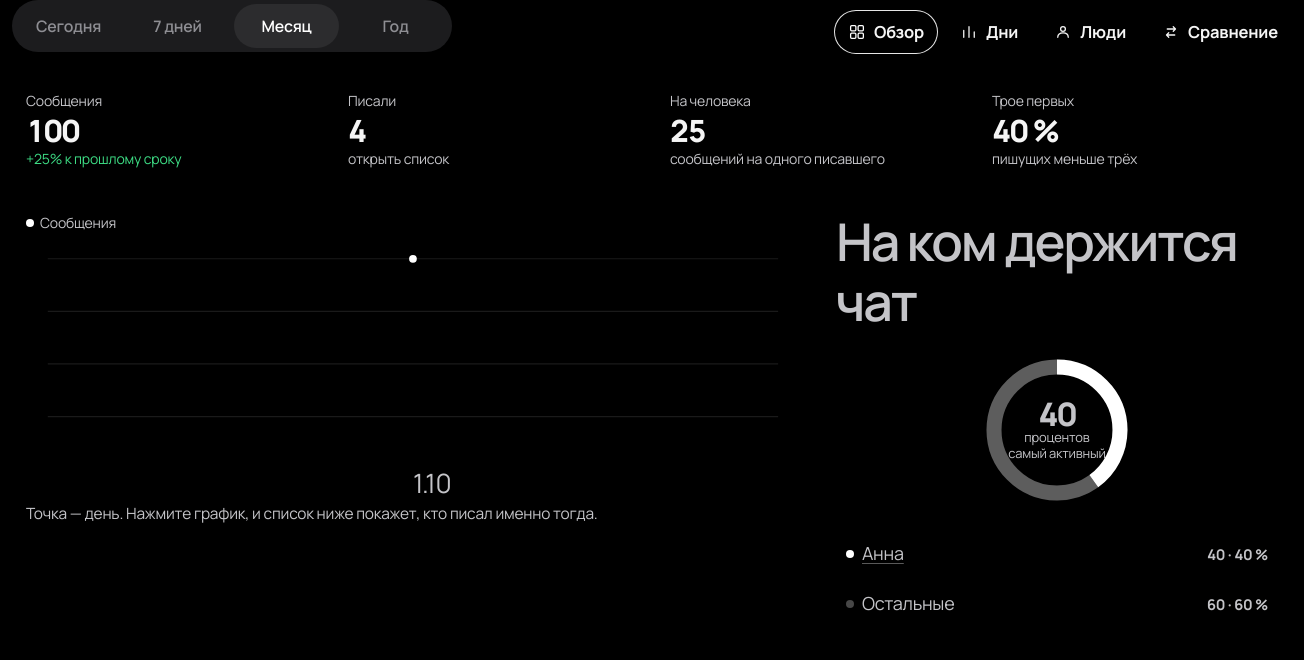
Scenario: ActivityBoard › compares the period and opens one day
Expected: the text "+25% к прошлому сроку" is shown, x1=26 y1=150 x2=182 y2=169
Expected: the tab "Обзор" is shown, x1=834 y1=10 x2=938 y2=54
Click the tab "Сравнение": (1220, 32) x1=1148 y1=10 x2=1292 y2=54
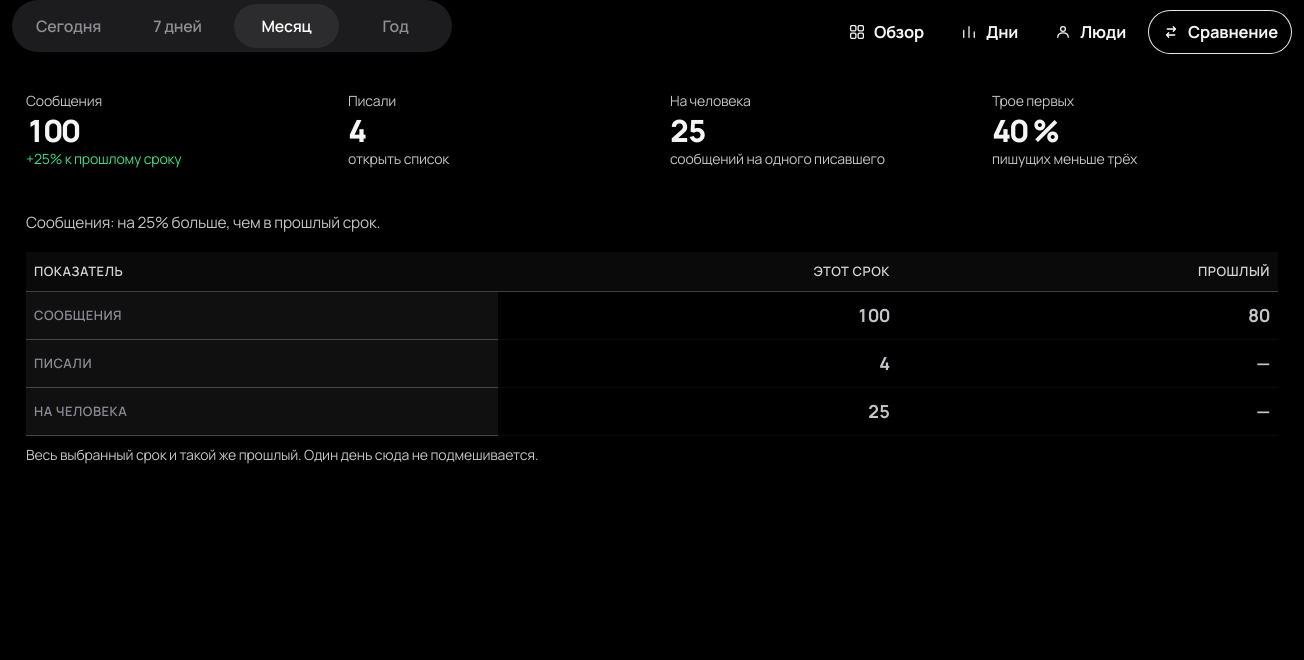
Expected: the text "Сообщения: на 25% больше, чем в прошлый срок." is shown, x1=26 y1=211 x2=380 y2=233
Click the tab "Дни": (989, 32) x1=946 y1=10 x2=1032 y2=54
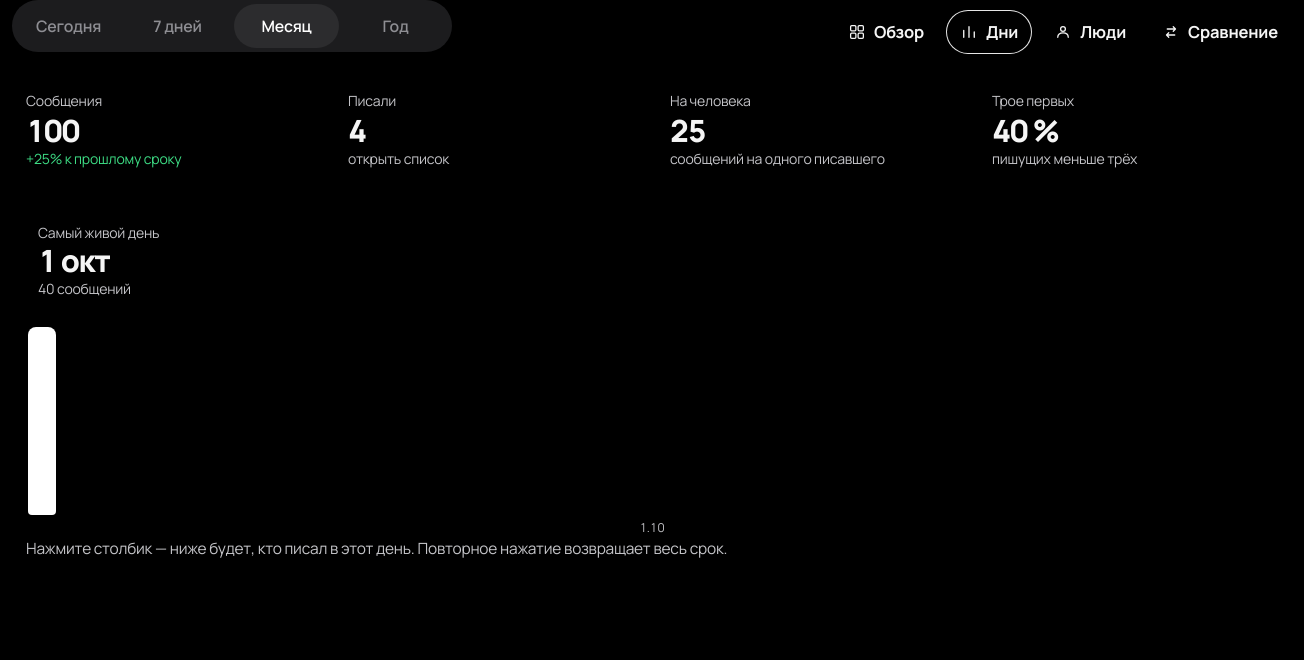
Click the button named "1 окт: 40 сообщений": (42, 421) x1=28 y1=327 x2=56 y2=515
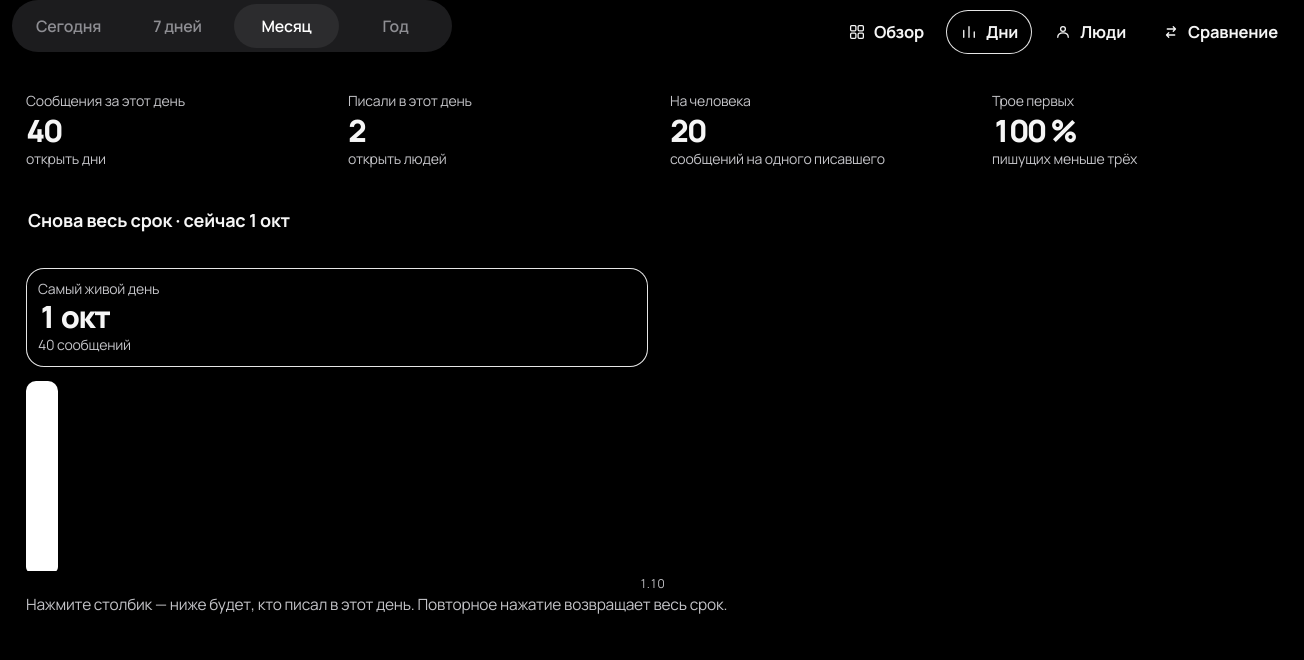
Expected: the button "Снова весь срок · сейчас 1 окт" is shown, x1=12 y1=198 x2=1292 y2=242
